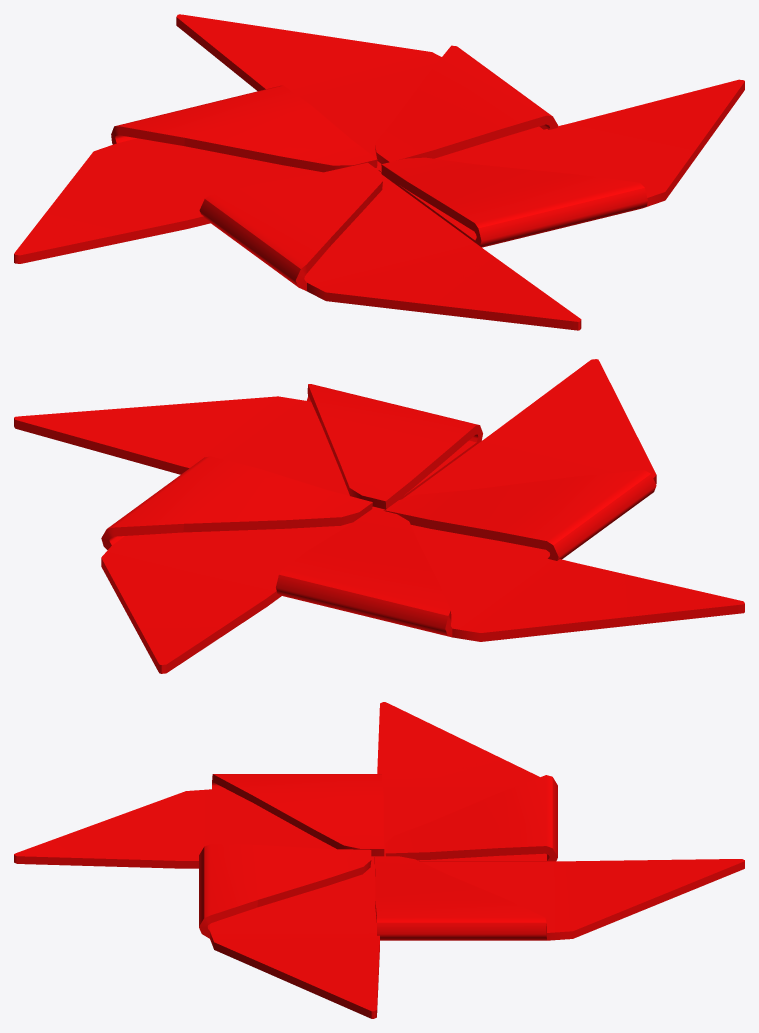
The model's file is rehilete.obj.
3 renders of one model, top to bottom at view 1: azimuth 30°, elevation 25°; view 2: azimuth 150°, elevation 25°; view 3: azimuth 270°, elevation 25°, orthographic. The views are drawn at different scales.
Visible parts, largest first — view 1: rehilete_poly.001_rehilete_polySurface14Shape_194_0.002; view 2: rehilete_poly.001_rehilete_polySurface14Shape_194_0.002; view 3: rehilete_poly.001_rehilete_polySurface14Shape_194_0.002.
Boxes of the visible parts, x1,y1,x2,y2 form: rehilete_poly.001_rehilete_polySurface14Shape_194_0.002: (14, 14, 744, 330); rehilete_poly.001_rehilete_polySurface14Shape_194_0.002: (14, 359, 744, 673); rehilete_poly.001_rehilete_polySurface14Shape_194_0.002: (14, 702, 744, 1018).
Size of the model in its own units: 0.2645 by 0.00975 by 0.2627.
1 material, 1 textured.
